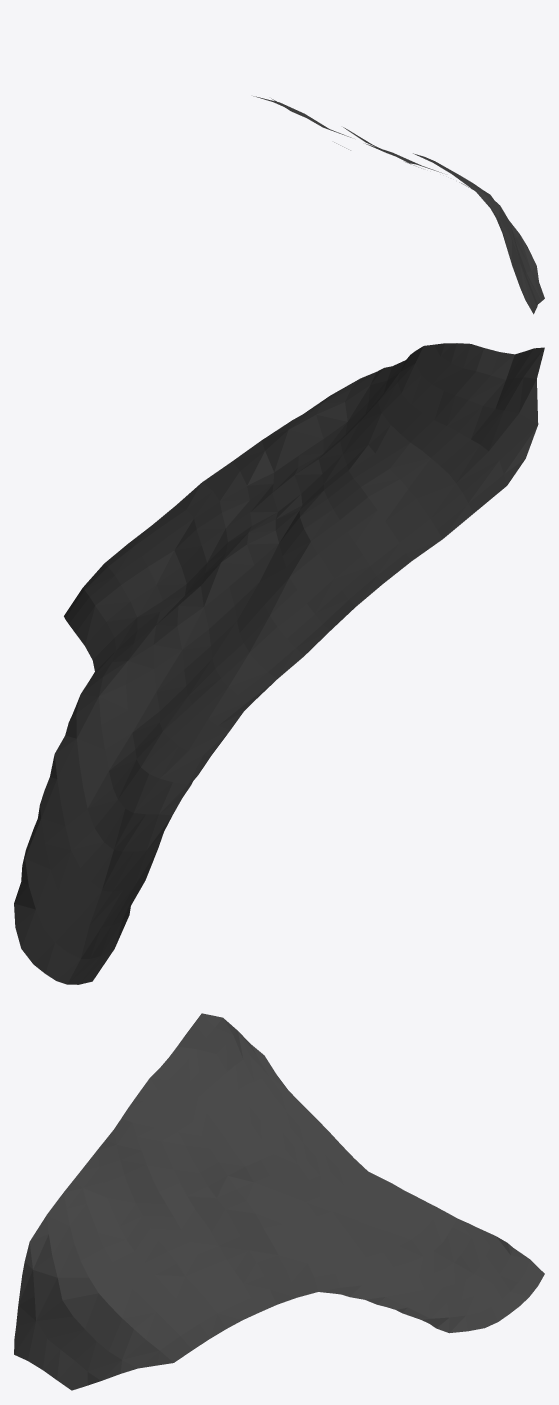
The model's file is eq_dist_limb_Hoof_Digital_Cushion.glb.
3 views of the same model, one above another, from view 1: azimuth 30°, elevation 25°; view 2: azimuth 150°, elevation 25°; view 3: azimuth 270°, elevation 25° (orthographic). The views are drawn at different scales.
Visible parts, largest first — view 1: eq_dist_limb_Hoof_Digital_Cushion; view 2: eq_dist_limb_Hoof_Digital_Cushion; view 3: eq_dist_limb_Hoof_Digital_Cushion.
Boxes of the visible parts, x1,y1,x2,y2 form: eq_dist_limb_Hoof_Digital_Cushion: [253, 96, 544, 314]; eq_dist_limb_Hoof_Digital_Cushion: [14, 343, 544, 984]; eq_dist_limb_Hoof_Digital_Cushion: [14, 1013, 544, 1390].
Size of the model in its own units: 0.00435 by 0.00358 by 0.00692.
Materials: 1 (1 with a texture image).
